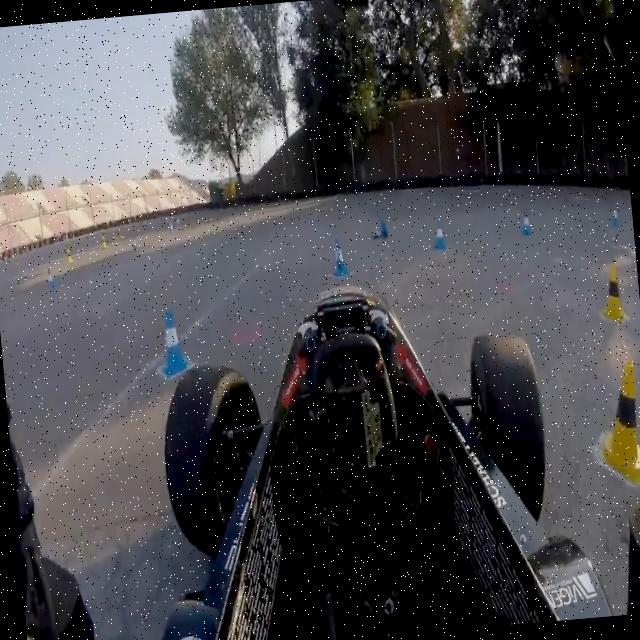blue_cone: (153, 312, 192, 379), (328, 236, 351, 281), (432, 216, 448, 252), (370, 218, 390, 242), (520, 211, 534, 235), (46, 266, 56, 292), (610, 206, 620, 228), (130, 236, 137, 254)
yellow_cone: (594, 360, 640, 488), (598, 258, 626, 324), (66, 248, 74, 264), (100, 233, 106, 250)
